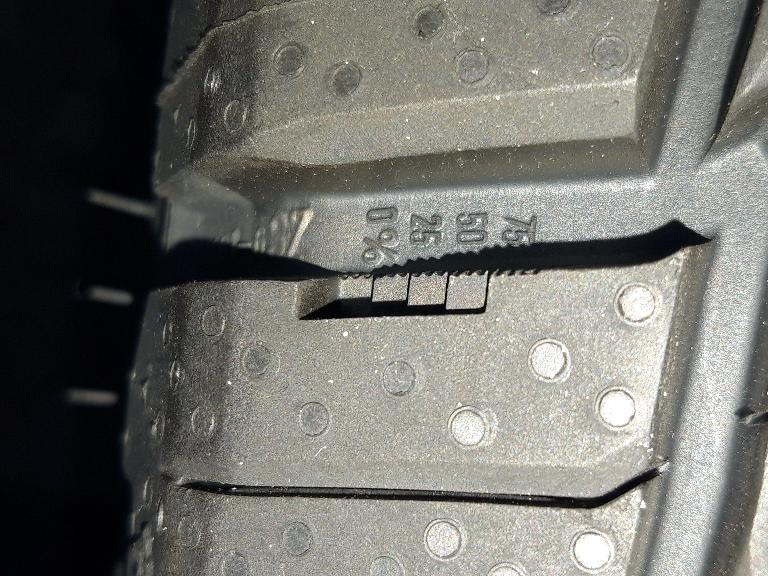temoin:100: (291, 264, 547, 325)
